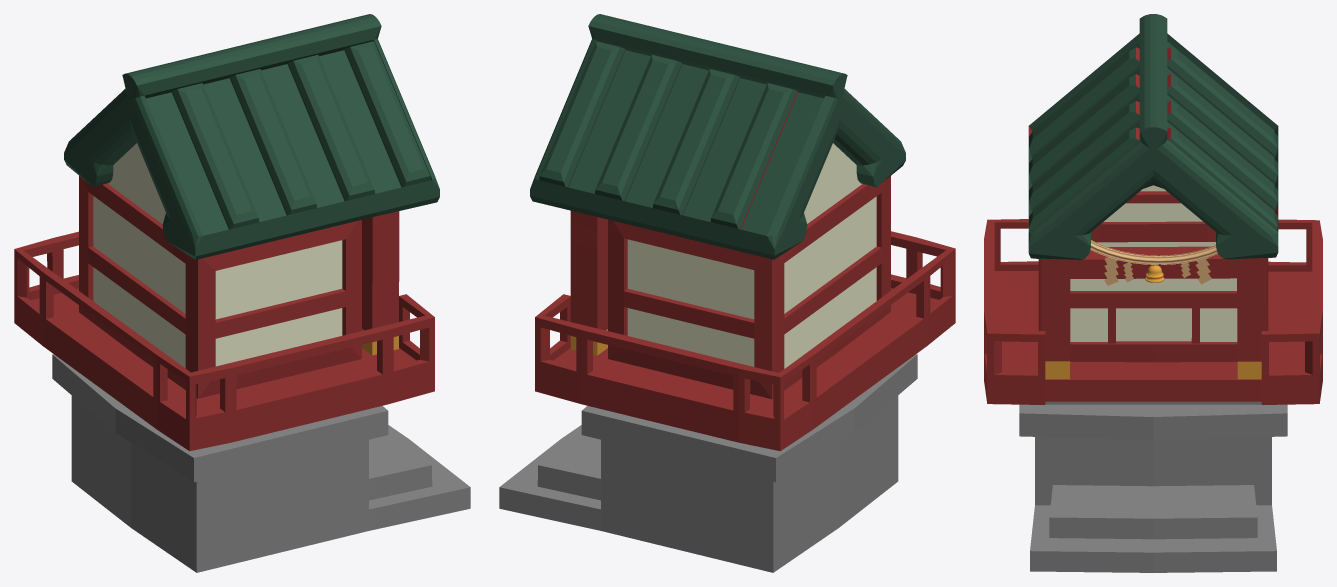
File: Temple_japan.fbx
3 views of the same model, side by side, from view 1: azimuth 30°, elevation 25°; view 2: azimuth 150°, elevation 25°; view 3: azimuth 270°, elevation 25° (orthographic). The views are drawn at different scales.
Visible parts, largest first — view 1: Cube.007; view 2: Cube.007; view 3: Cube.007.
Part boxes in pixels (x1=…): Cube.007: x1=14, y1=14, x2=470, y2=572; Cube.007: x1=499, y1=14, x2=955, y2=572; Cube.007: x1=984, y1=14, x2=1322, y2=572.
Bounding box in the file's own units: 150 × 210 × 150.
